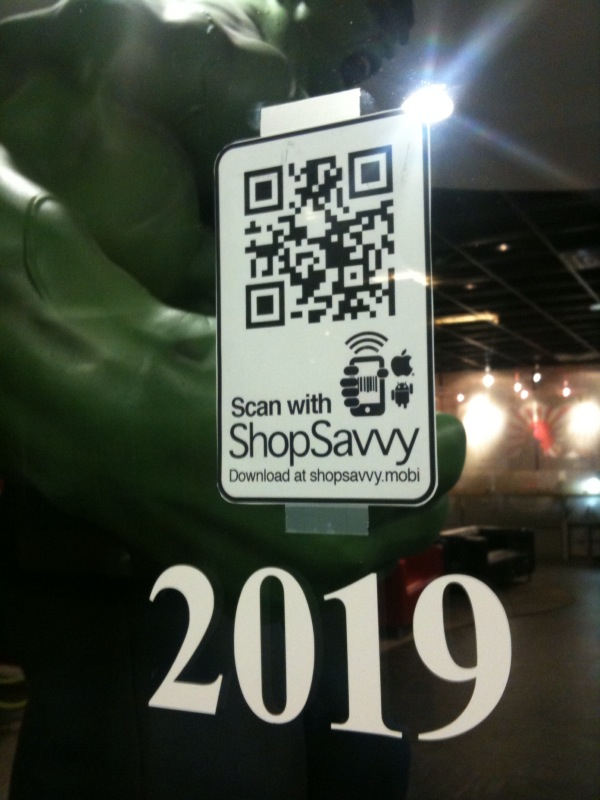QR-CODE: (244, 144, 395, 329)
